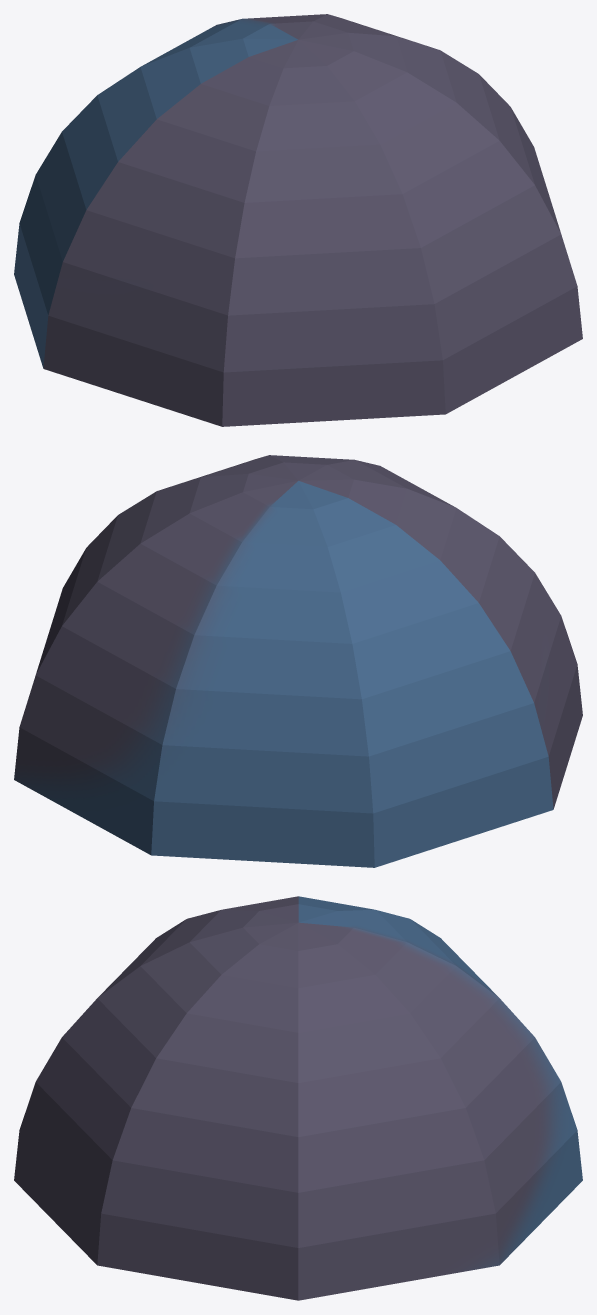
File: shipCockpit.obj
The picture shows the model from 3 angles, top to bottom: view 1: azimuth 30°, elevation 25°; view 2: azimuth 150°, elevation 25°; view 3: azimuth 270°, elevation 25°; orthographic projection. The views are drawn at different scales.
Visible parts, largest first — view 1: shipCockpit_Circle.003; view 2: shipCockpit_Circle.003; view 3: shipCockpit_Circle.003.
Boxes of the visible parts, box(x1,y1,x2,y2) form: shipCockpit_Circle.003: box(14, 14, 582, 426); shipCockpit_Circle.003: box(14, 455, 582, 867); shipCockpit_Circle.003: box(14, 896, 582, 1300).
Size of the model in its own units: 0.4198 by 0.2099 by 0.4198.
